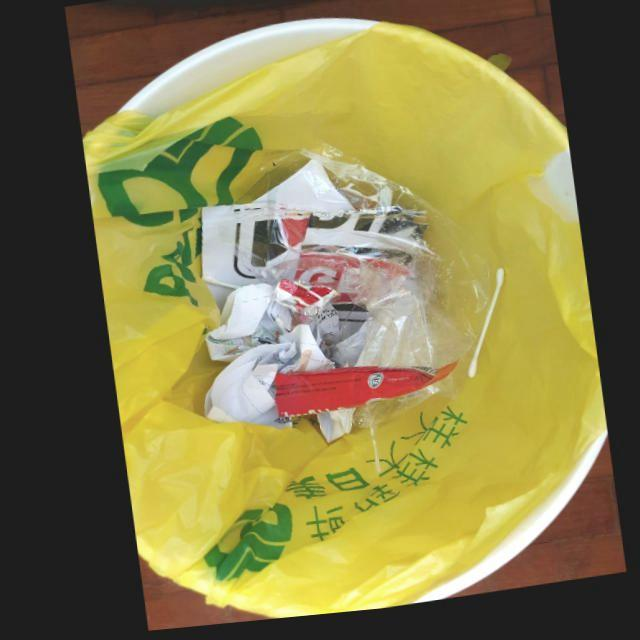food_wrapper: (270, 285, 334, 322)
paper: (198, 286, 332, 432), (197, 209, 256, 318), (308, 414, 348, 447)
plastic_bag: (216, 146, 487, 433)
plastic_bottle: (266, 368, 452, 426)
